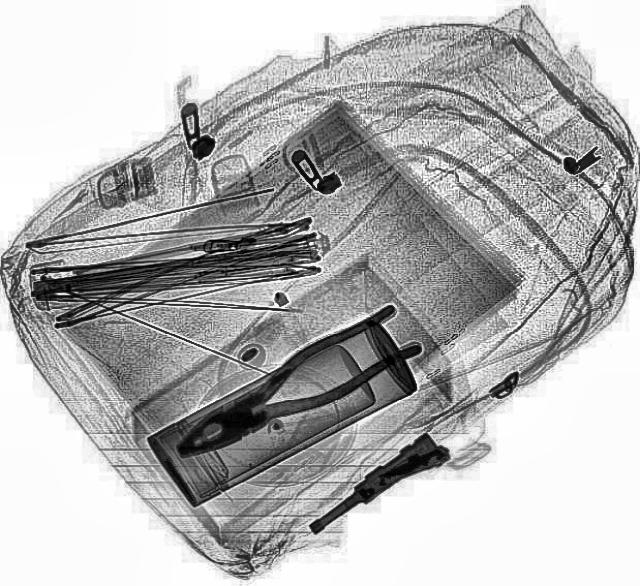Gun: (298, 429, 452, 546)
Pliers: (156, 300, 426, 478)
